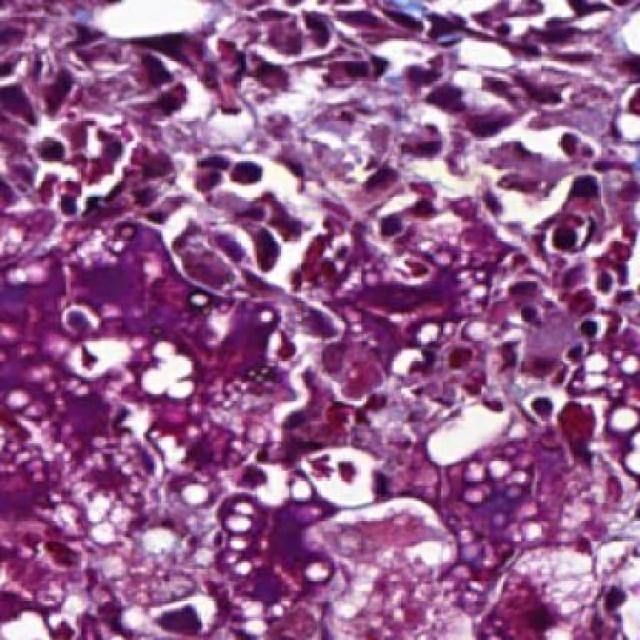ballooning: (297, 440, 388, 513)
